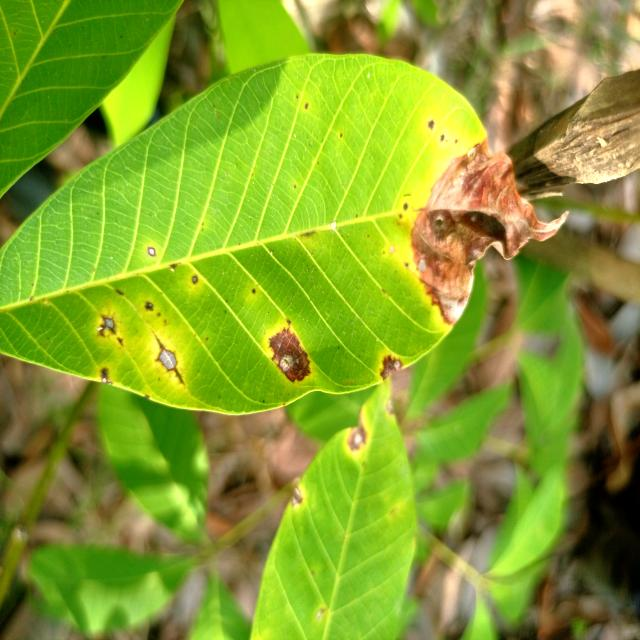Colletotrichum: (148, 246, 155, 256), (193, 276, 197, 283), (252, 288, 256, 294)
Corynespora: (154, 334, 184, 384)
Leaf-Blight: (410, 136, 569, 326), (269, 328, 311, 384), (380, 355, 402, 380)
